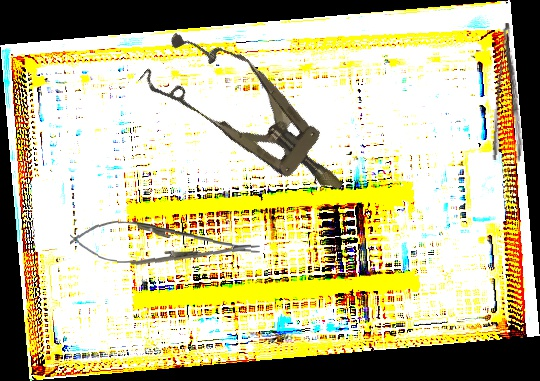Dressing Forceps: (490, 22, 533, 163)
Needle Holder: (68, 217, 262, 273)
Speculum: (136, 14, 368, 221)
